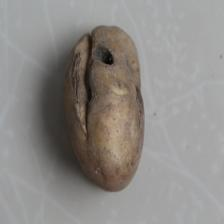Damaged potato: (62, 24, 146, 194)
